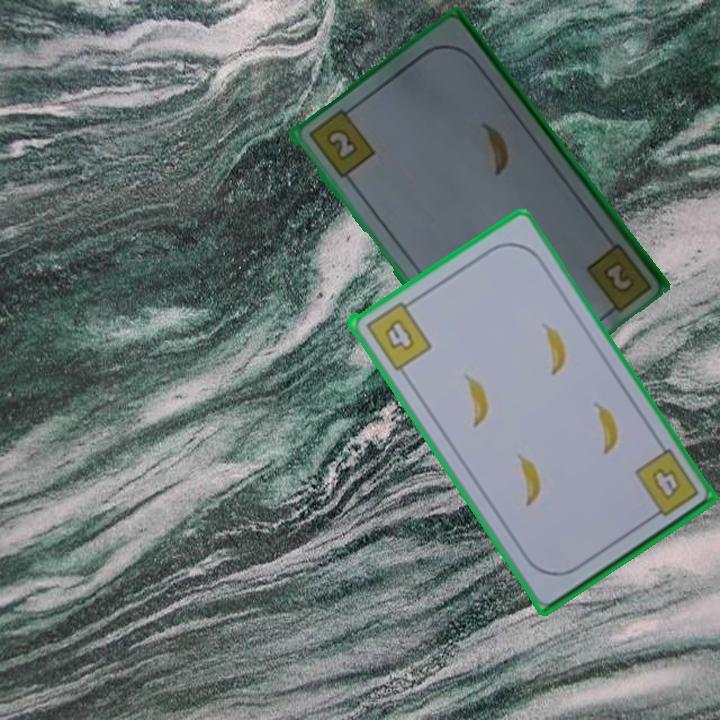2b: (304, 103, 378, 181), (599, 257, 634, 293)
4b: (361, 295, 435, 373), (647, 464, 683, 504)
